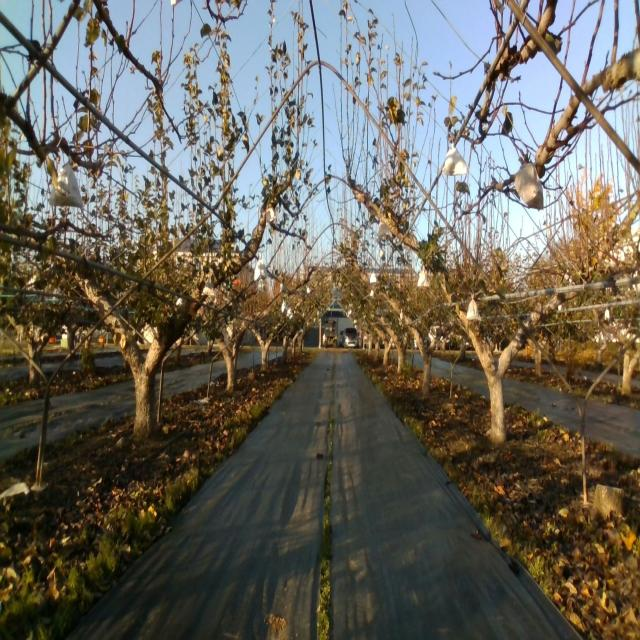pearbags: (48, 152, 84, 211), (514, 157, 544, 209), (443, 141, 468, 176), (466, 292, 482, 322), (200, 273, 218, 297), (255, 256, 268, 280), (417, 266, 432, 286), (377, 217, 390, 240), (265, 206, 276, 225)
